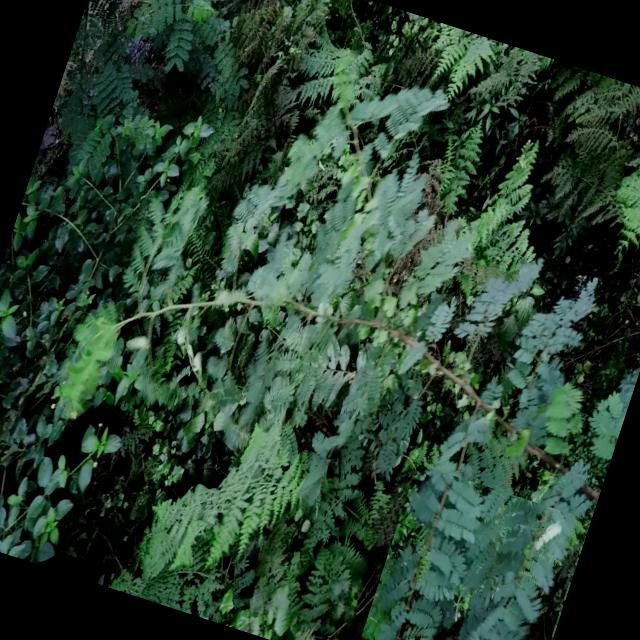Mysore-Thorn-Weed: (44, 24, 640, 563), (28, 0, 245, 224), (355, 464, 589, 640)
